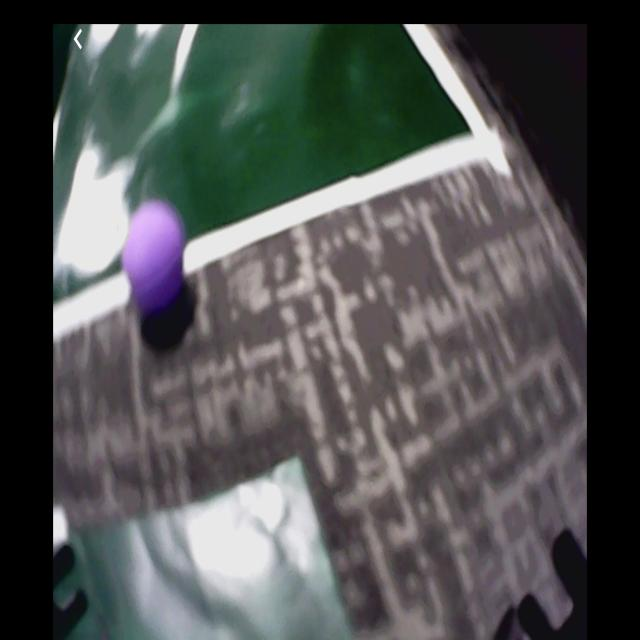ball: (124, 208, 183, 307)
